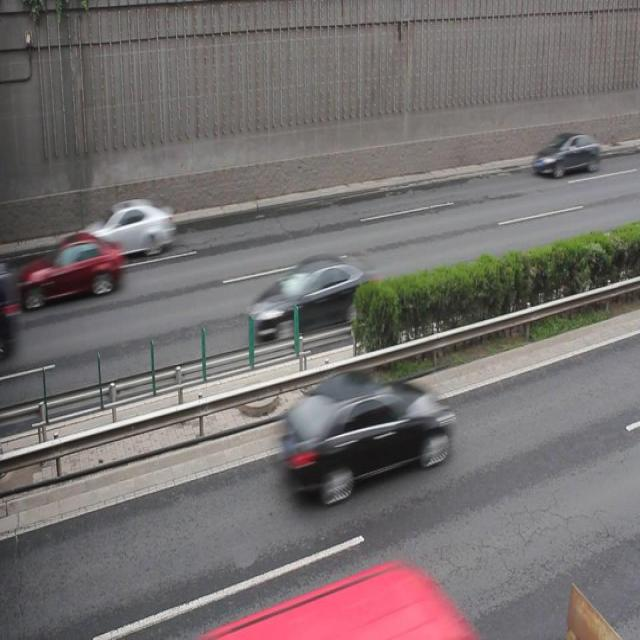car: (279, 366, 449, 499), (250, 253, 374, 340), (28, 230, 123, 303), (82, 197, 175, 258), (532, 129, 600, 177)
truck: (253, 563, 465, 640)
